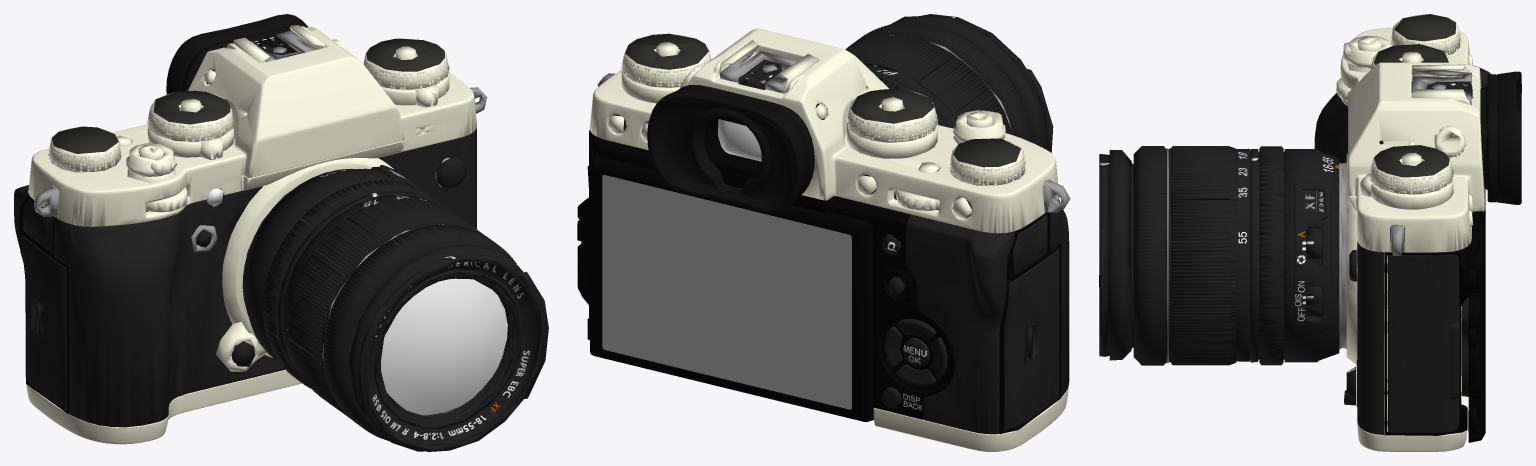
Rendered from CameraSimpler.fbx.
3 renders of one model, left to right at view 1: azimuth 30°, elevation 25°; view 2: azimuth 150°, elevation 25°; view 3: azimuth 270°, elevation 25°, orthographic. The views are drawn at different scales.
Parts seen in each view (by area): view 1: fujiXT3, fujiXT3.007, fujiXT3.020, lens, fujiXT3.013, fujiXT3.014, fujiXT3.021, fujiXT3.017, fujiXT3.011, fujiXT3.019, fujiXT3.015, fujiXT3.012 (+3 smaller); view 2: fujiXT3.001, fujiXT3, fujiXT3.007, fujiXT3.003, fujiXT3.005, fujiXT3.002, fujiXT3.008, fujiXT3.021, fujiXT3.013, fujiXT3.014, fujiXT3.011, fujiXT3.024 (+6 smaller); view 3: fujiXT3, fujiXT3.007, fujiXT3.013, fujiXT3.010, fujiXT3.014, fujiXT3.017, fujiXT3.015, fujiXT3.005, fujiXT3.012, fujiXT3.016, fujiXT3.002, fujiXT3.011 (+5 smaller).
Part boxes in pixels (bbox=[...]): fujiXT3: bbox=[19, 25, 548, 451]; fujiXT3.007: bbox=[28, 26, 476, 226]; fujiXT3.020: bbox=[54, 186, 285, 427]; lens: bbox=[381, 278, 507, 415]; fujiXT3.013: bbox=[287, 199, 512, 420]; fujiXT3.014: bbox=[323, 224, 516, 440]; fujiXT3.021: bbox=[21, 234, 66, 409]; fujiXT3.017: bbox=[242, 168, 410, 362]; fujiXT3.011: bbox=[26, 369, 301, 444]; fujiXT3.019: bbox=[222, 158, 393, 357]; fujiXT3.015: bbox=[262, 179, 443, 388]; fujiXT3.012: bbox=[379, 128, 476, 228]; fujiXT3.001: bbox=[602, 175, 851, 409]; fujiXT3: bbox=[577, 14, 1070, 433]; fujiXT3.007: bbox=[589, 28, 1058, 233]; fujiXT3.003: bbox=[906, 214, 1014, 434]; fujiXT3.005: bbox=[647, 85, 814, 213]; fujiXT3.002: bbox=[577, 153, 873, 421]; fujiXT3.008: bbox=[592, 135, 955, 419]; fujiXT3.021: bbox=[1004, 249, 1059, 430]; fujiXT3.013: bbox=[845, 34, 1012, 134]; fujiXT3.014: bbox=[847, 22, 1034, 194]; fujiXT3.011: bbox=[873, 386, 1068, 451]; fujiXT3.024: bbox=[884, 318, 947, 386]; fujiXT3: bbox=[1099, 14, 1476, 435]; fujiXT3.007: bbox=[1340, 27, 1485, 252]; fujiXT3.013: bbox=[1171, 146, 1236, 365]; fujiXT3.010: bbox=[1388, 254, 1459, 432]; fujiXT3.014: bbox=[1133, 146, 1165, 365]; fujiXT3.017: bbox=[1284, 149, 1339, 362]; fujiXT3.015: bbox=[1259, 146, 1283, 365]; fujiXT3.005: bbox=[1480, 71, 1521, 204]; fujiXT3.012: bbox=[1357, 241, 1383, 434]; fujiXT3.016: bbox=[1294, 181, 1331, 333]; fujiXT3.002: bbox=[1468, 189, 1485, 442]; fujiXT3.011: bbox=[1357, 242, 1466, 451].
Bounding box in the file's own units: 139 × 91.82 × 118.
